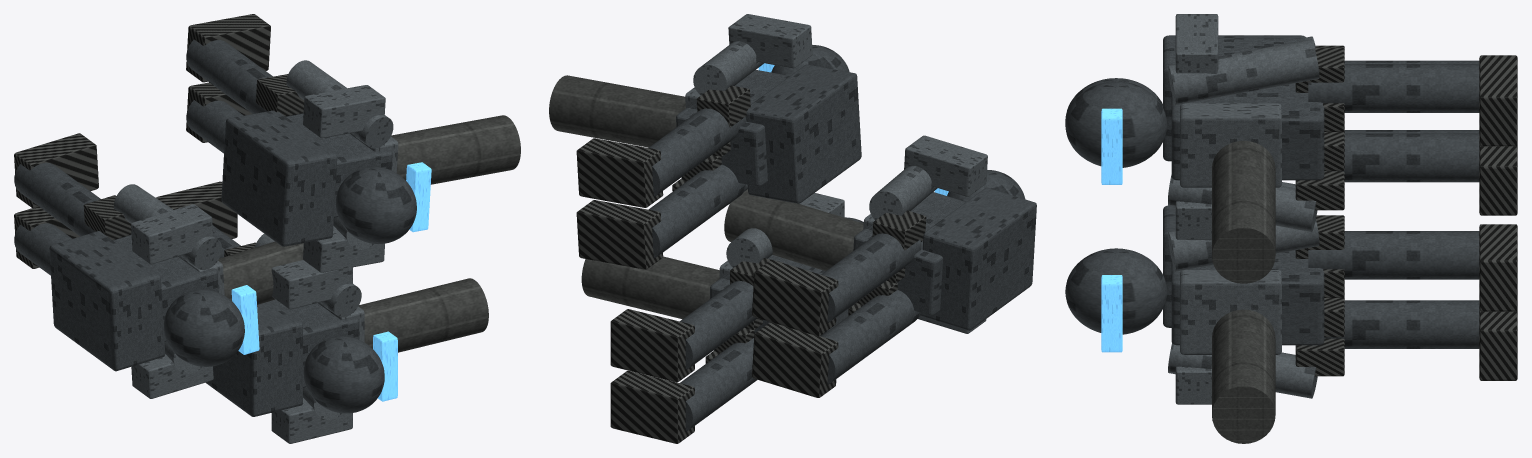
The model's file is s-u05-specter-anti-air-team-lod0.glb.
3 views of the same model, side by side, from view 1: azimuth 30°, elevation 25°; view 2: azimuth 150°, elevation 25°; view 3: azimuth 270°, elevation 25° (orthographic). The views are drawn at different scales.
Parts seen in each view (by area): view 1: soldier_0_backpack, soldier_2_backpack, soldier_1_backpack, soldier_1_launcher, soldier_0_launcher, soldier_1_helmet, soldier_2_helmet, soldier_0_helmet, soldier_2_shoulder_1, soldier_0_leg_1, soldier_2_leg_1, soldier_0_shoulder_1 (+23 smaller); view 2: soldier_0_backpack, soldier_2_backpack, soldier_0_launcher, soldier_2_launcher, soldier_1_launcher, soldier_2_boot_1, soldier_1_boot_1, soldier_1_boot_-1, soldier_2_boot_-1, soldier_0_boot_-1, soldier_0_boot_1, soldier_0_leg_-1 (+19 smaller); view 3: soldier_0_launcher, soldier_1_launcher, soldier_0_leg_1, soldier_1_leg_1, soldier_0_leg_-1, soldier_1_leg_-1, soldier_0_chest, soldier_0_helmet, soldier_1_helmet, soldier_1_chest, soldier_0_arm_1, soldier_0_torso (+25 smaller).
Boxes of the visible parts, <box> form: soldier_0_backpack: <box>221,110,337,246</box>; soldier_2_backpack: <box>49,231,165,371</box>; soldier_1_backpack: <box>206,300,302,416</box>; soldier_1_launcher: <box>358,278,488,352</box>; soldier_0_launcher: <box>391,115,520,184</box>; soldier_1_helmet: <box>303,336,384,413</box>; soldier_2_helmet: <box>164,289,244,366</box>; soldier_0_helmet: <box>336,167,416,243</box>; soldier_2_shoulder_1: <box>131,204,213,264</box>; soldier_0_leg_1: <box>186,39,303,116</box>; soldier_2_leg_1: <box>14,162,131,240</box>; soldier_0_shoulder_1: <box>303,85,385,138</box>; soldier_0_backpack: <box>745,64,861,203</box>; soldier_2_backpack: <box>920,187,1036,330</box>; soldier_0_launcher: <box>549,75,685,147</box>; soldier_2_launcher: <box>724,189,863,270</box>; soldier_1_launcher: <box>581,256,719,319</box>; soldier_2_boot_1: <box>752,260,838,336</box>; soldier_1_boot_1: <box>610,309,694,382</box>; soldier_1_boot_-1: <box>610,371,694,443</box>; soldier_2_boot_-1: <box>752,322,838,397</box>; soldier_0_boot_-1: <box>576,200,663,269</box>; soldier_0_boot_1: <box>576,138,663,207</box>; soldier_0_leg_-1: <box>649,164,745,258</box>; soldier_0_launcher: <box>1212,140,1275,283</box>; soldier_1_launcher: <box>1212,309,1275,443</box>; soldier_0_leg_1: <box>1308,64,1479,112</box>; soldier_1_leg_1: <box>1308,231,1479,279</box>; soldier_0_leg_-1: <box>1324,133,1479,182</box>; soldier_1_leg_-1: <box>1324,300,1479,348</box>; soldier_0_chest: <box>1180,103,1281,187</box>; soldier_0_helmet: <box>1065,81,1167,167</box>; soldier_1_helmet: <box>1065,248,1167,334</box>; soldier_1_chest: <box>1180,270,1281,354</box>; soldier_0_arm_1: <box>1168,39,1319,105</box>; soldier_0_torso: <box>1171,83,1324,180</box>.
Size of what is drawn, in the model's own units: 2.69 by 1.95 by 2.13.
5 materials, 5 textured.
